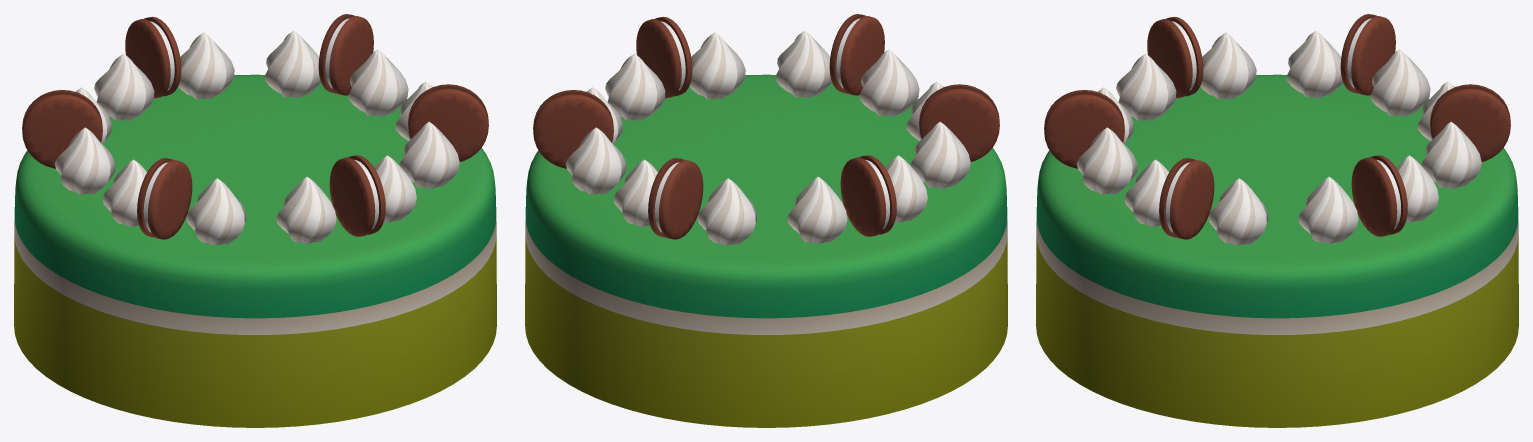
File: cake10.FBX
3 views of the same model, side by side, from view 1: azimuth 30°, elevation 25°; view 2: azimuth 150°, elevation 25°; view 3: azimuth 270°, elevation 25° (orthographic).
Visible parts, largest first — view 1: cake10; view 2: cake10; view 3: cake10.
Part boxes in pixels (bbox=[...]): cake10: bbox=[14, 14, 496, 427]; cake10: bbox=[525, 14, 1007, 427]; cake10: bbox=[1036, 14, 1518, 427].
Size of the model in its own units: 0.0193 by 0.0104 by 0.0193.
